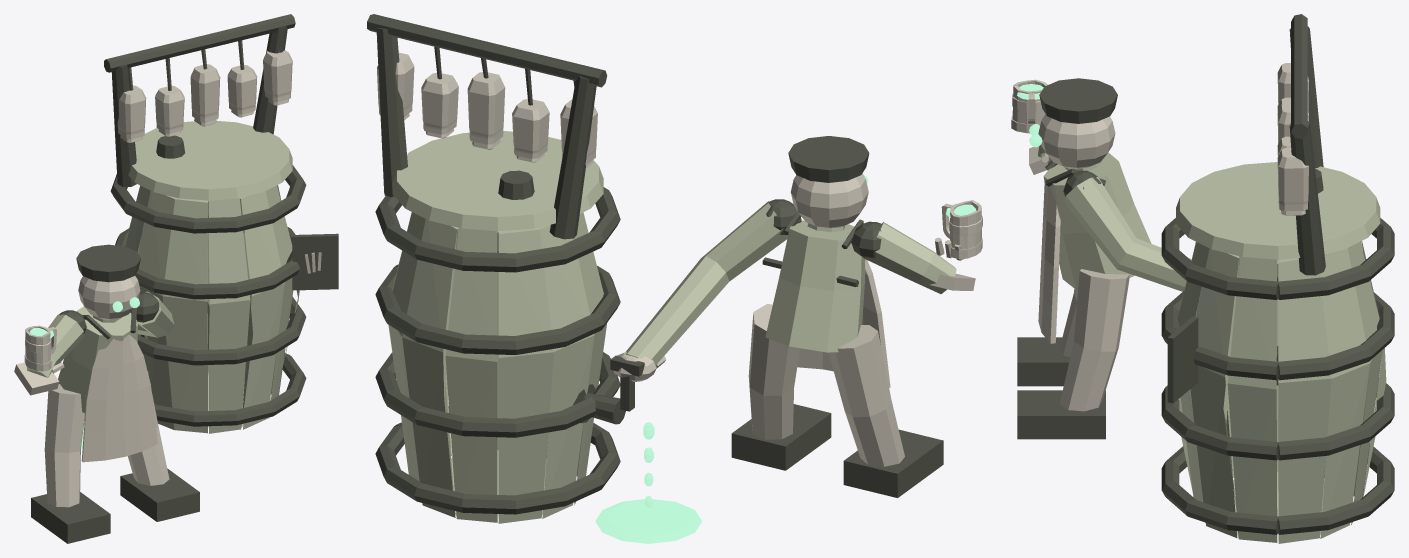
Rendered from tapster.glb.
3 views of the same model, side by side, from view 1: azimuth 30°, elevation 25°; view 2: azimuth 150°, elevation 25°; view 3: azimuth 270°, elevation 25° (orthographic). The views are drawn at different scales.
Parts seen in each view (by area): view 1: tapster_body, tapster_dark, tapster_bone; view 2: tapster_body, tapster_dark, tapster_bone, tapster_glow; view 3: tapster_body, tapster_dark, tapster_bone, tapster_glow.
Boxes of the visible parts, box(x1,y1,x2,y2) form: tapster_body: box(26, 121, 299, 433); tapster_dark: box(31, 14, 338, 543); tapster_bone: box(14, 50, 321, 507); tapster_body: box(388, 131, 956, 523); tapster_dark: box(367, 14, 943, 514); tapster_bone: box(377, 52, 982, 466); tapster_glow: box(595, 175, 976, 543); tapster_body: box(1038, 145, 1386, 543); tapster_dark: box(1017, 14, 1394, 534); tapster_bone: box(1011, 63, 1308, 411); tapster_glow: box(1017, 84, 1043, 147).
Bounding box in the file's own units: 3.04 × 2.8 × 2.21.
